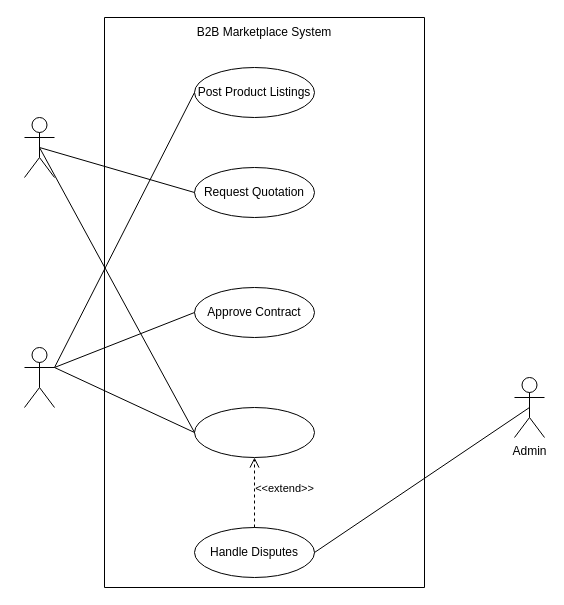
The diagram is 564 pixels wide and 605 high, and some of its shapes have lost their labels. The centre of each missing label's shape, as x and y in pixels:
"Buyer" belongs at [39,147].
"Manage Orders" belongs at [254,432].
"Supplier" belongs at [39,377].
